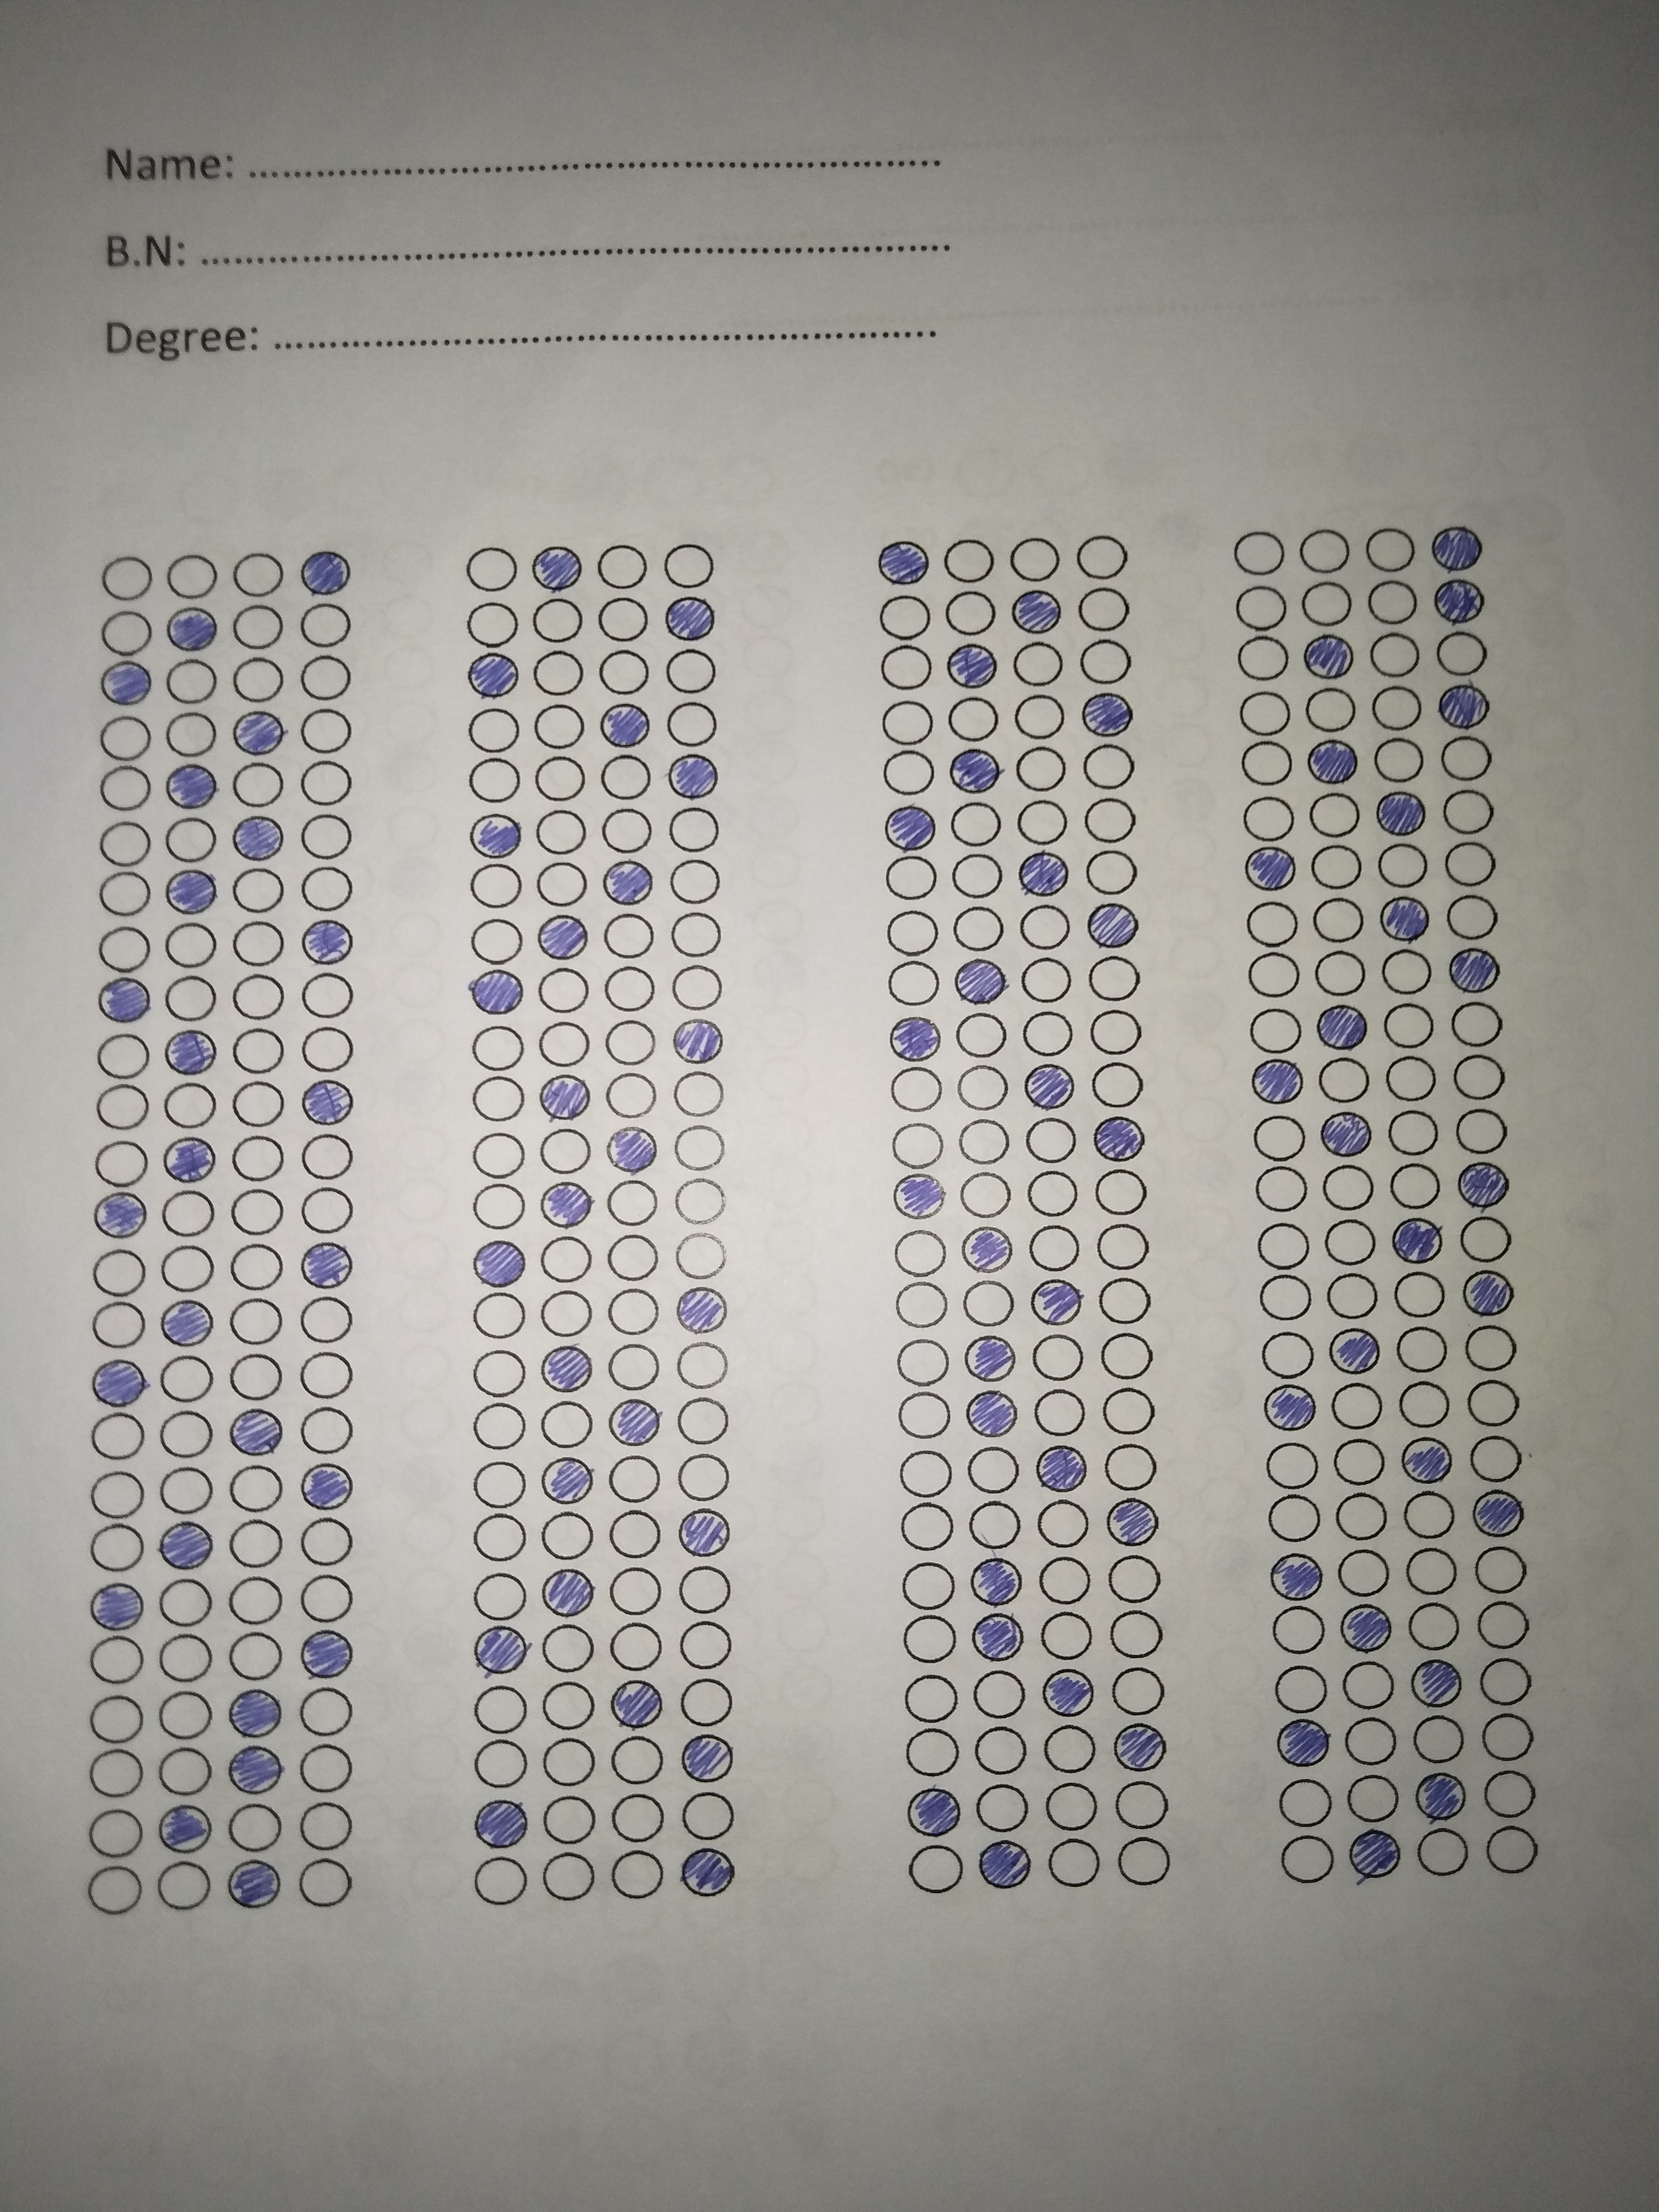not-c: (288, 1742, 361, 1801), (220, 1627, 288, 1686), (293, 1402, 366, 1456), (220, 1460, 291, 1514), (286, 1801, 357, 1855), (598, 1507, 669, 1561), (1358, 524, 1424, 582), (1255, 1327, 1323, 1383), (218, 1519, 289, 1571), (153, 1740, 218, 1797), (532, 1507, 596, 1564), (1016, 1115, 1089, 1165), (87, 1465, 153, 1521), (598, 1451, 667, 1503), (1223, 524, 1293, 577), (1272, 1832, 1342, 1885), (1244, 1113, 1316, 1163), (1112, 1834, 1175, 1892), (1481, 1824, 1544, 1881), (465, 1737, 530, 1792), (1293, 524, 1358, 580), (1075, 636, 1140, 691), (1241, 1003, 1309, 1055), (1091, 1331, 1161, 1381), (225, 1796, 284, 1855), (951, 1115, 1012, 1172), (469, 1510, 532, 1566), (875, 695, 939, 749), (1093, 1219, 1157, 1273), (87, 1136, 153, 1188), (298, 1292, 364, 1345), (296, 1350, 362, 1402), (598, 1622, 664, 1674), (1091, 1278, 1157, 1331), (1100, 1444, 1166, 1496), (1258, 1439, 1324, 1491), (157, 1461, 216, 1519), (1110, 1660, 1169, 1717), (84, 1301, 153, 1350), (152, 1411, 221, 1460), (608, 1735, 669, 1791), (946, 1062, 1016, 1111), (1025, 1219, 1086, 1275), (1110, 1775, 1171, 1831), (157, 1632, 220, 1686), (87, 1691, 150, 1745), (471, 1681, 533, 1735), (875, 592, 938, 646), (904, 1843, 967, 1897), (298, 1515, 362, 1568), (295, 1688, 359, 1740), (535, 1400, 599, 1453), (608, 1850, 673, 1902), (537, 1851, 601, 1904), (889, 1338, 953, 1390), (225, 1134, 291, 1184), (599, 1568, 666, 1618), (939, 697, 1006, 747), (1438, 787, 1504, 838), (298, 1575, 366, 1623), (943, 850, 1011, 899), (1014, 792, 1073, 848), (1100, 1385, 1159, 1440), (89, 1743, 150, 1797), (537, 1287, 598, 1341), (899, 1615, 960, 1669), (85, 1865, 148, 1918), (1011, 636, 1073, 688), (1267, 1604, 1330, 1656), (223, 1576, 288, 1627), (469, 1402, 533, 1453), (1018, 1167, 1082, 1217), (1455, 1216, 1520, 1266), (153, 1353, 220, 1402), (948, 1014, 1014, 1062), (1260, 1494, 1326, 1543), (98, 763, 155, 819), (298, 968, 355, 1024), (296, 812, 352, 869), (298, 758, 355, 813), (298, 702, 355, 758), (164, 657, 221, 712), (162, 547, 220, 603), (467, 702, 525, 758), (660, 646, 718, 702), (462, 596, 519, 651), (592, 538, 650, 594), (542, 1738, 599, 1794), (681, 1787, 739, 1843), (608, 1791, 666, 1846), (87, 1804, 146, 1858), (544, 1794, 603, 1848), (1086, 951, 1145, 1005), (85, 1522, 146, 1575), (605, 1177, 666, 1230), (469, 1348, 530, 1400), (472, 1851, 533, 1904), (1004, 536, 1065, 589), (955, 1169, 1016, 1221), (295, 1855, 357, 1905), (469, 1573, 532, 1623), (1009, 691, 1072, 742), (1082, 846, 1145, 897), (1018, 1014, 1080, 1064), (1441, 841, 1504, 892), (1323, 1271, 1385, 1322), (1270, 1665, 1333, 1716), (1079, 742, 1141, 792), (227, 1299, 291, 1348), (889, 1393, 955, 1440), (98, 707, 153, 763), (230, 758, 286, 813), (296, 864, 352, 920), (298, 596, 354, 651), (98, 603, 153, 658), (298, 653, 354, 709), (535, 808, 591, 864), (599, 801, 655, 857), (594, 592, 650, 648), (664, 702, 720, 758), (666, 799, 721, 855), (533, 752, 589, 808), (533, 702, 589, 758), (467, 756, 523, 812), (528, 646, 584, 702), (598, 648, 653, 704), (532, 596, 587, 651), (660, 538, 716, 594), (467, 542, 523, 597), (978, 1723, 1033, 1778), (1309, 789, 1364, 845), (1321, 1162, 1377, 1217), (1335, 1491, 1391, 1547), (1342, 1660, 1398, 1716), (157, 1858, 214, 1912), (676, 1622, 734, 1676), (1039, 1609, 1096, 1663), (1464, 1324, 1521, 1378), (1403, 1489, 1460, 1543), (1415, 1827, 1473, 1881), (227, 549, 286, 601), (89, 1632, 148, 1684), (538, 1233, 598, 1285), (469, 1458, 528, 1510), (678, 1676, 737, 1728), (1075, 533, 1134, 585), (1309, 895, 1368, 948), (1387, 1160, 1446, 1212), (1478, 1656, 1537, 1709), (601, 1345, 662, 1395), (938, 536, 999, 587), (1089, 1010, 1150, 1061), (1093, 1167, 1154, 1217), (897, 1561, 958, 1611), (1328, 1379, 1389, 1430), (1476, 1712, 1537, 1763), (227, 1190, 289, 1238), (939, 589, 1002, 637), (1255, 1273, 1317, 1322), (1401, 1602, 1464, 1651), (1011, 744, 1073, 792), (91, 1251, 155, 1298), (875, 646, 939, 693), (99, 550, 155, 604), (889, 1115, 945, 1169), (1107, 1550, 1162, 1604), (1448, 1000, 1504, 1054), (1405, 1547, 1460, 1601), (471, 1129, 528, 1181), (605, 1285, 662, 1338), (678, 1339, 735, 1392), (889, 1062, 946, 1115), (892, 1226, 950, 1278), (892, 1280, 950, 1332), (1377, 841, 1434, 894), (1382, 1001, 1439, 1054), (1075, 587, 1141, 632), (157, 1691, 216, 1742), (471, 1183, 530, 1233), (606, 1235, 666, 1285), (469, 1291, 528, 1341), (1030, 1390, 1089, 1440), (1107, 1608, 1166, 1658), (903, 1672, 962, 1723), (1236, 688, 1295, 738), (1392, 1325, 1452, 1376), (1342, 1717, 1401, 1768), (85, 1413, 146, 1461), (1236, 636, 1297, 685), (1443, 894, 1506, 941), (1248, 1165, 1310, 1212), (875, 749, 939, 794), (471, 913, 526, 965), (537, 1127, 592, 1179), (1046, 1723, 1101, 1775), (1047, 1836, 1103, 1888), (1396, 1379, 1452, 1432), (1466, 1378, 1521, 1430), (1476, 1601, 1532, 1653), (603, 1071, 660, 1122), (676, 1454, 734, 1505), (965, 1444, 1023, 1494), (1277, 1778, 1335, 1829), (1481, 1770, 1539, 1820), (159, 1190, 218, 1238), (1046, 1782, 1105, 1831), (228, 1353, 289, 1400), (885, 963, 946, 1010), (1028, 1336, 1089, 1383), (1239, 796, 1300, 843), (1312, 1057, 1373, 1104), (1230, 585, 1293, 631), (599, 751, 653, 803), (674, 1177, 728, 1230), (978, 1780, 1030, 1834), (1380, 946, 1434, 998), (1382, 1054, 1436, 1106), (1473, 1545, 1527, 1597), (896, 1447, 951, 1498), (1366, 577, 1422, 627), (1384, 1106, 1439, 1157), (1453, 1104, 1509, 1155), (1337, 1547, 1392, 1597), (1412, 1714, 1467, 1764), (228, 1244, 286, 1292), (676, 1399, 734, 1447), (948, 799, 1006, 848), (1080, 796, 1138, 845), (1089, 1061, 1147, 1109), (1033, 1555, 1091, 1604), (971, 1669, 1028, 1717), (1436, 735, 1493, 784), (1314, 948, 1371, 996), (1255, 1221, 1312, 1270), (1466, 1433, 1523, 1482), (1448, 1054, 1507, 1101), (1239, 740, 1300, 786), (1333, 1437, 1385, 1489), (671, 1071, 725, 1122), (676, 1231, 727, 1285), (680, 1564, 734, 1615), (1305, 683, 1356, 737), (1244, 899, 1298, 949), (162, 921, 218, 970), (542, 1625, 598, 1674), (950, 904, 1006, 953), (897, 1503, 953, 1552), (1436, 631, 1492, 679), (1366, 631, 1424, 678), (887, 909, 939, 960), (472, 1075, 526, 1123), (540, 1679, 594, 1728), (1300, 580, 1354, 629), (1248, 951, 1302, 1000), (1323, 1219, 1377, 1268), (298, 1186, 354, 1233), (162, 1245, 218, 1292), (671, 1125, 727, 1172), (904, 1728, 960, 1775), (1305, 846, 1368, 888), (1392, 1273, 1450, 1318), (885, 857, 945, 900), (1373, 735, 1424, 786), (98, 869, 150, 918), (669, 857, 721, 906), (1019, 956, 1072, 1005), (964, 1282, 1016, 1331), (969, 1501, 1021, 1550), (1347, 1775, 1399, 1824), (298, 1136, 355, 1179), (166, 1080, 216, 1129), (167, 711, 218, 759), (98, 1082, 148, 1130), (537, 1021, 589, 1068), (234, 1080, 286, 1127), (301, 1028, 354, 1075), (232, 658, 284, 705), (232, 604, 284, 651), (234, 1028, 286, 1075), (98, 1033, 150, 1080), (605, 1017, 657, 1064), (472, 1026, 525, 1073), (232, 972, 284, 1019), (98, 925, 150, 972), (603, 965, 655, 1012), (537, 967, 589, 1014), (671, 963, 723, 1010), (603, 913, 655, 960), (232, 920, 284, 967), (232, 866, 284, 913), (535, 860, 587, 907), (471, 862, 523, 909), (671, 911, 723, 958), (164, 815, 216, 862), (99, 819, 152, 866), (160, 1578, 213, 1625), (1371, 686, 1424, 733), (1037, 1501, 1091, 1547), (166, 975, 216, 1022), (1021, 906, 1072, 953)
taken-c: (472, 1792, 530, 1851), (680, 1844, 737, 1902), (89, 1578, 148, 1634), (967, 1608, 1026, 1663), (1398, 1433, 1459, 1487), (91, 1355, 148, 1411), (225, 1855, 282, 1911), (1112, 1717, 1169, 1773), (298, 1629, 357, 1683), (227, 1688, 288, 1740), (1347, 1825, 1403, 1881), (157, 1296, 214, 1350), (1084, 899, 1141, 953), (1103, 1494, 1161, 1548), (978, 1838, 1035, 1892), (1276, 1716, 1333, 1770), (1328, 1325, 1385, 1379), (227, 1743, 286, 1796), (962, 1388, 1021, 1440), (906, 1785, 965, 1838), (1265, 1552, 1326, 1602), (1432, 683, 1493, 733), (300, 1460, 355, 1514), (159, 1799, 213, 1855), (680, 1731, 735, 1785), (538, 1177, 594, 1231), (1028, 1275, 1084, 1329), (1033, 1440, 1089, 1494), (971, 1555, 1026, 1609), (1338, 1601, 1394, 1655), (1263, 1379, 1319, 1433), (298, 545, 355, 597), (298, 916, 355, 968), (159, 1519, 216, 1571), (606, 1676, 664, 1728), (674, 1505, 732, 1557), (880, 803, 938, 855), (951, 954, 1009, 1007), (1040, 1667, 1098, 1719), (1448, 942, 1506, 995), (162, 866, 221, 916), (469, 1238, 528, 1289), (1317, 1109, 1377, 1160), (1248, 1057, 1307, 1108), (542, 1564, 596, 1618), (1415, 1770, 1469, 1824), (230, 705, 286, 758), (300, 1240, 355, 1292), (230, 1406, 286, 1458), (538, 1453, 594, 1505), (606, 1397, 662, 1449), (889, 1012, 945, 1064), (91, 1191, 148, 1242), (472, 1625, 530, 1676), (464, 648, 521, 698), (528, 542, 586, 592), (960, 1332, 1018, 1383), (1431, 577, 1488, 627), (1427, 523, 1486, 571), (162, 1132, 216, 1184), (601, 855, 655, 907), (1392, 1212, 1445, 1266), (164, 761, 220, 812), (96, 977, 152, 1028), (164, 1028, 220, 1078), (300, 1078, 355, 1129), (538, 1345, 594, 1395), (537, 1073, 592, 1123), (945, 641, 1000, 691), (946, 745, 1002, 796), (1016, 848, 1072, 899), (1091, 1113, 1147, 1163), (892, 1170, 948, 1221), (1377, 892, 1432, 942), (1406, 1658, 1464, 1707), (1298, 632, 1356, 681), (1079, 691, 1138, 738), (1473, 1487, 1525, 1540), (1377, 787, 1429, 840), (166, 604, 220, 655), (674, 1284, 728, 1334), (671, 1015, 725, 1066), (471, 965, 525, 1015), (535, 913, 589, 963), (469, 810, 523, 860), (1462, 1268, 1516, 1318), (1457, 1160, 1511, 1211), (1316, 1001, 1370, 1052), (1307, 735, 1361, 786), (230, 813, 286, 862), (603, 1123, 659, 1172), (958, 1224, 1014, 1273), (667, 751, 720, 801), (877, 538, 931, 587), (1021, 1062, 1075, 1111), (99, 660, 155, 707), (1009, 589, 1065, 636), (1243, 846, 1298, 894), (664, 592, 716, 641), (598, 702, 652, 749)
